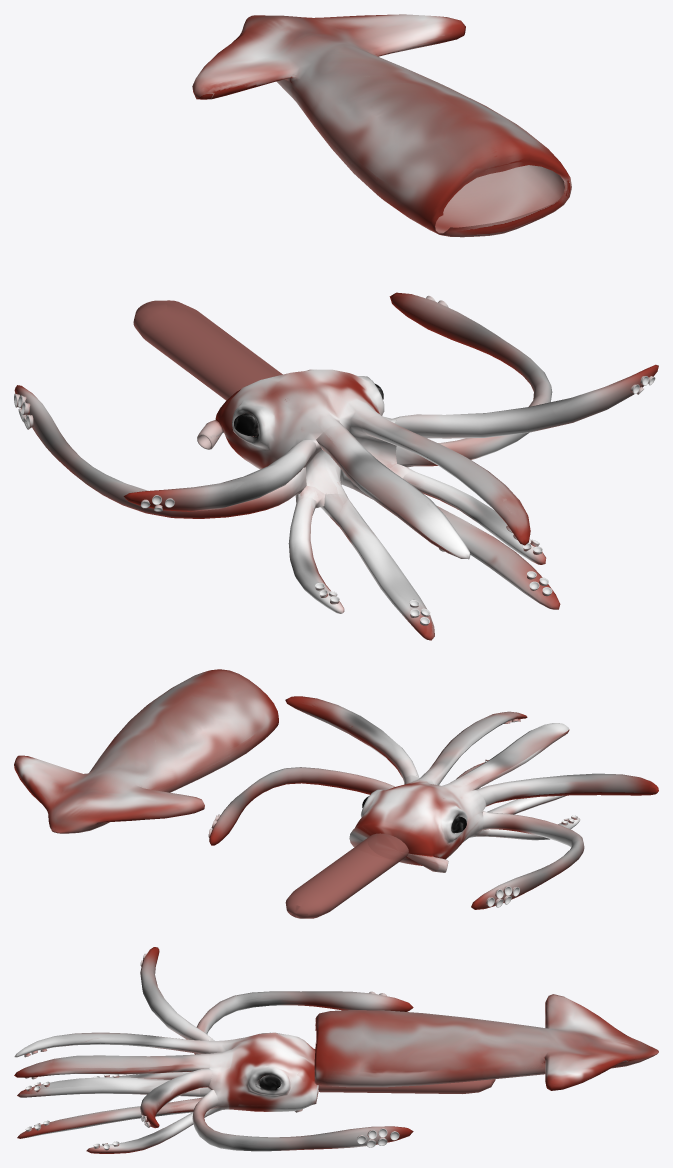
File: イカ完成系.fbx
The picture shows the model from 3 angles, top to bottom: view 1: azimuth 30°, elevation 25°; view 2: azimuth 150°, elevation 25°; view 3: azimuth 270°, elevation 25°; orthographic projection. The views are drawn at different scales.
Visible parts, largest first — view 1: ika.001, ika, 円柱, ika.005, ika.006, ika.013, ika.007, ika.012, ika.004, ika.010, ika.011, ika.008 (+1 smaller); view 2: ika.001, ika, 円柱, ika.007, ika.004, ika.006, ika.005, ika.013, ika.012, ika.010, ika.009; view 3: ika.001, ika, ika.006, ika.007, ika.012, ika.013, ika.010, ika.011, ika.004, ika.005, 円柱, ika.008 (+1 smaller).
Part boxes in pixels (x1,y1,x2,y2): ika.001: [192, 14, 571, 237]; ika: [197, 369, 415, 508]; 円柱: [133, 300, 282, 400]; ika.005: [395, 364, 658, 438]; ika.006: [389, 292, 552, 467]; ika.013: [316, 425, 470, 559]; ika.007: [14, 385, 306, 518]; ika.012: [362, 415, 530, 545]; ika.004: [123, 440, 315, 511]; ika.010: [320, 493, 434, 640]; ika.011: [372, 499, 560, 609]; ika.008: [403, 471, 546, 564]; ika.001: [14, 669, 278, 833]; ika: [349, 773, 489, 872]; 円柱: [285, 833, 408, 918]; ika.007: [471, 811, 584, 909]; ika.004: [476, 773, 658, 806]; ika.006: [208, 767, 395, 845]; ika.005: [285, 696, 418, 782]; ika.013: [454, 723, 569, 790]; ika.012: [421, 711, 527, 782]; ika.010: [487, 795, 566, 814]; ika.009: [485, 815, 580, 840]; ika.001: [314, 994, 658, 1090]; ika: [200, 1032, 318, 1115]; ika.006: [192, 1090, 413, 1151]; ika.007: [194, 991, 413, 1054]; ika.012: [14, 1053, 210, 1079]; ika.013: [14, 1032, 209, 1057]; ika.010: [17, 1077, 201, 1097]; ika.011: [17, 1098, 200, 1138]; ika.004: [140, 947, 210, 1040]; ika.005: [140, 1068, 212, 1128]; 円柱: [319, 1079, 495, 1093]; ika.008: [86, 1112, 207, 1153].
Bounding box in the file's own units: 27.73 × 11.24 × 36.03.
